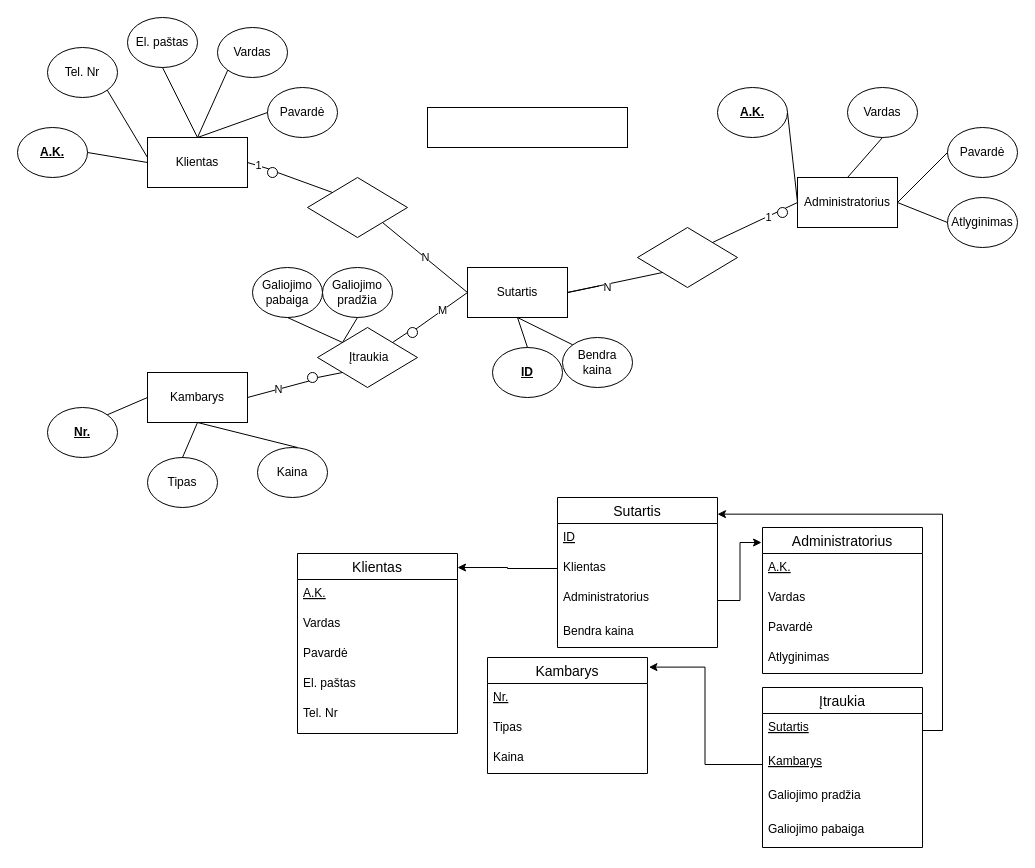
Image size: 1035x868. Some labels were removed from this diagram. Here are the shapes that lost their labels. From the top down, the centre of each, then its label:
(527,127): ER schema "Viešbutis"
(357,207): Pasirašo
(687,257): Sudaro
